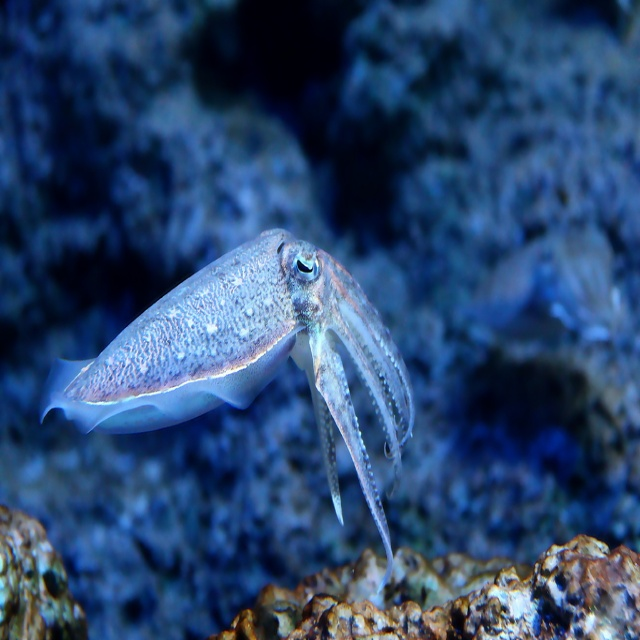Squid: (39, 229, 416, 596)
